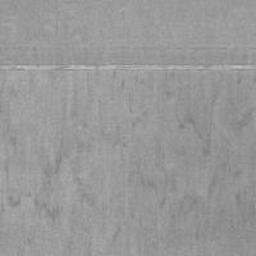Welding line: (0, 64, 256, 72)
